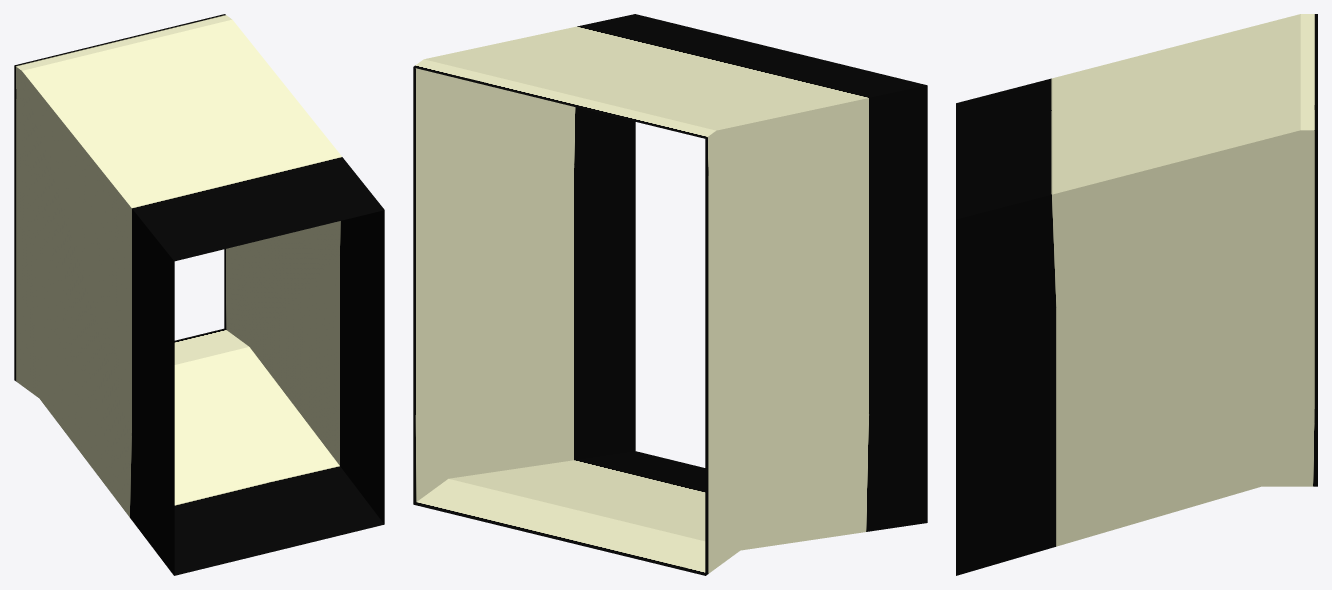
The model's file is fake_light_window_2_single.obj.
The picture shows the model from 3 angles, left to right: view 1: azimuth 30°, elevation 25°; view 2: azimuth 150°, elevation 25°; view 3: azimuth 270°, elevation 25°; orthographic projection. The views are drawn at different scales.
Parts seen in each view (by area): view 1: fake_light_window_2_single; view 2: fake_light_window_2_single; view 3: fake_light_window_2_single.
Part boxes in pixels (x1,y1,x2,y2): fake_light_window_2_single: (14, 14, 384, 575); fake_light_window_2_single: (413, 14, 927, 575); fake_light_window_2_single: (956, 14, 1317, 575).
Bounding box in the file's own units: 1.12 × 2 × 1.47.
